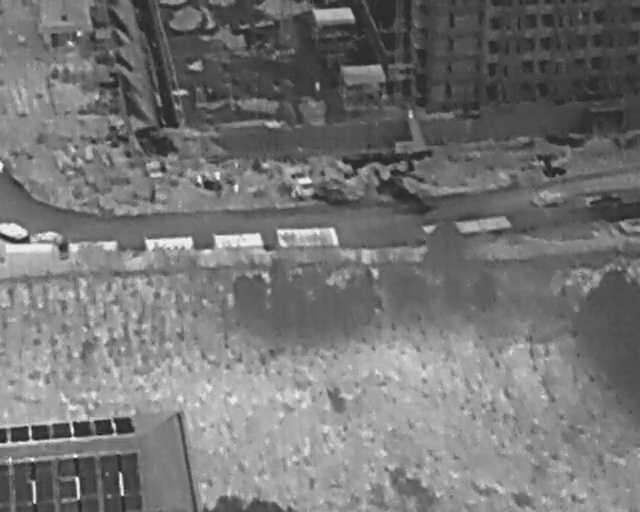Person: (193, 169, 208, 189), (314, 79, 321, 96), (407, 106, 415, 120), (213, 168, 221, 182)
